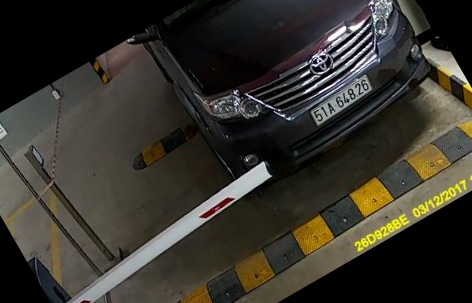plate: (309, 73, 376, 133)
